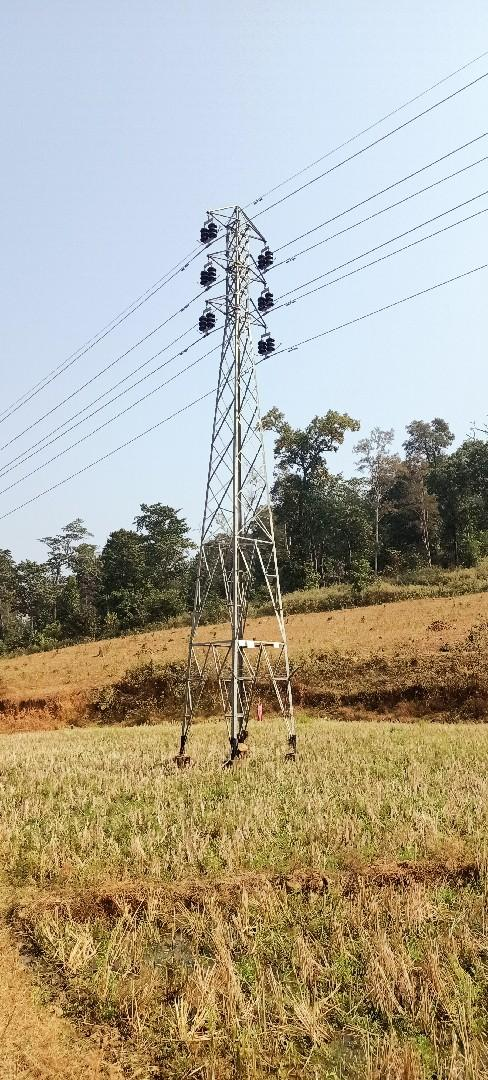GSM Antenna: (176, 200, 307, 741)
